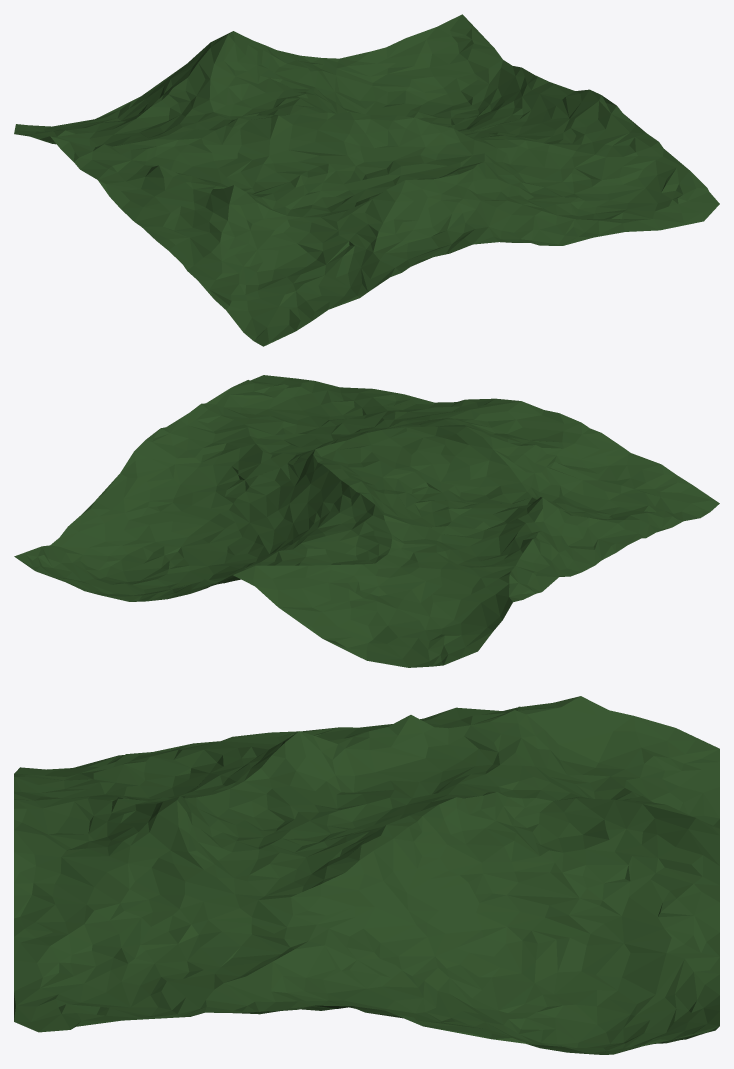
File: SM_landscape_08.fbx
3 views of the same model, one above another, from view 1: azimuth 30°, elevation 25°; view 2: azimuth 150°, elevation 25°; view 3: azimuth 270°, elevation 25° (orthographic). The views are drawn at different scales.
Parts seen in each view (by area): view 1: landscape_08; view 2: landscape_08; view 3: landscape_08.
Part boxes in pixels (x1,y1,x2,y2): landscape_08: (14,14,719,346); landscape_08: (14,375,719,667); landscape_08: (14,696,719,1054).
Bounding box in the file's own units: 2224 × 395 × 2224.
